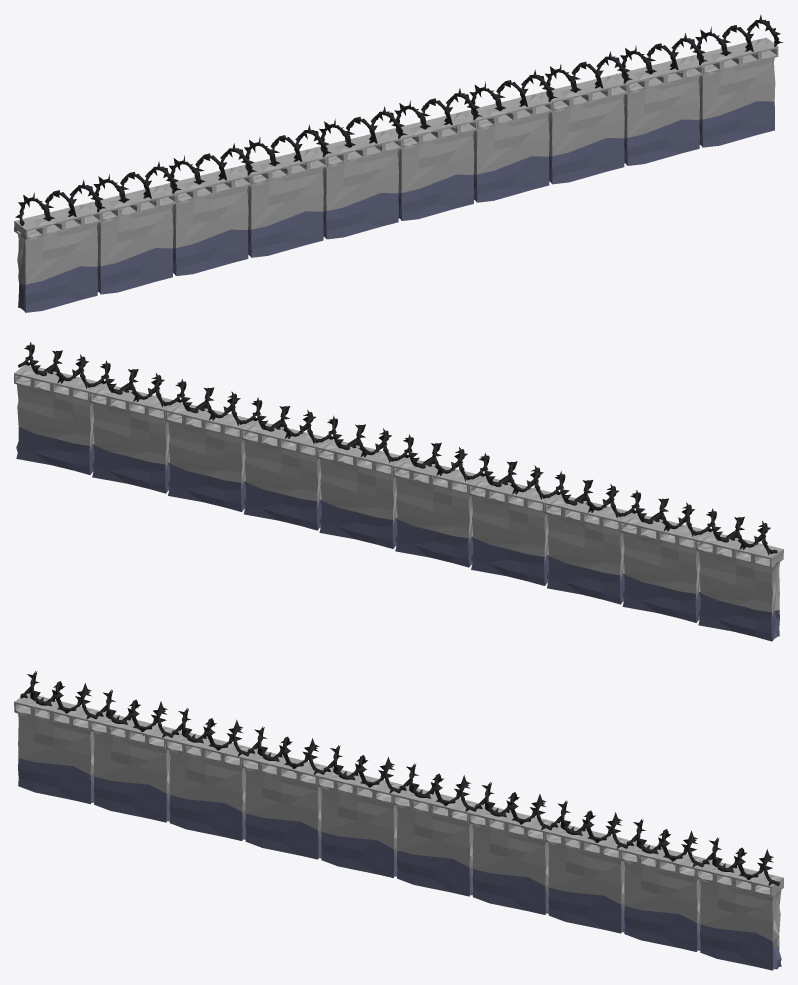
Rendered from iron_fence_medium.fbx.
3 views of the same model, one above another, from view 1: azimuth 30°, elevation 25°; view 2: azimuth 150°, elevation 25°; view 3: azimuth 330°, elevation 25° (orthographic).
Parts seen in each view (by area): view 1: iron_fence_medium; view 2: iron_fence_medium; view 3: iron_fence_medium.
Boxes of the visible parts, x1,y1,x2,y2 form: iron_fence_medium: (14,14,782,312); iron_fence_medium: (14,342,783,641); iron_fence_medium: (14,671,783,970).
Size of the model in its own units: 1987 by 294 by 87.15.
